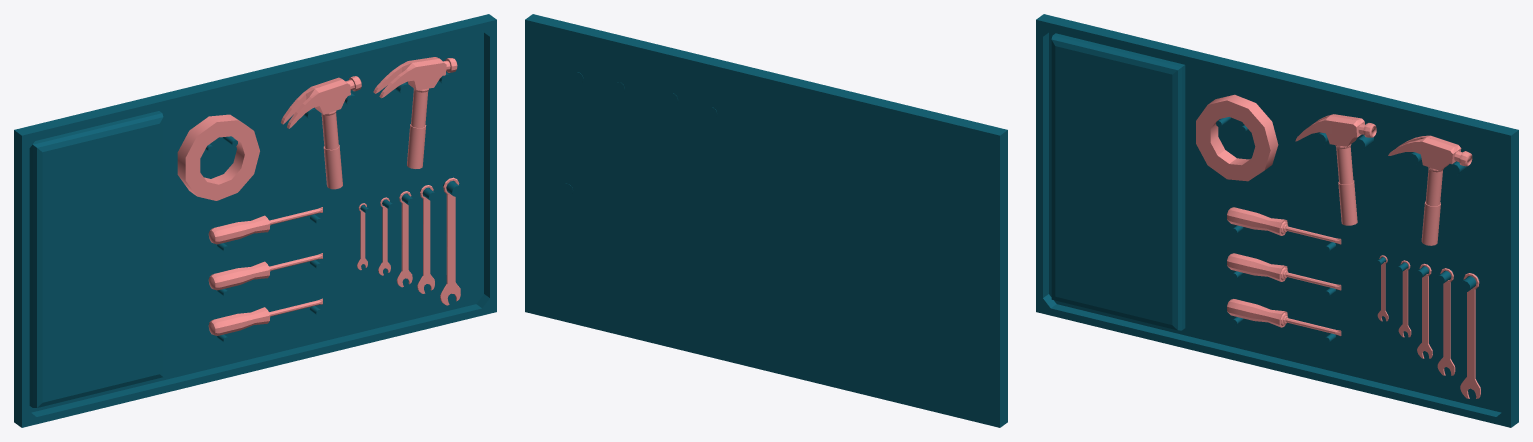
File: Tool_Pegboard.fbx
3 renders of one model, left to right at view 1: azimuth 30°, elevation 25°; view 2: azimuth 150°, elevation 25°; view 3: azimuth 330°, elevation 25°, orthographic.
Visible parts, largest first — view 1: Pegboard, Duct Tape, Hammer001, Hammer, Cylinder018, ScrewDriver002, ScrewDriver, ScrewDriver001, Wrench, Wrench001, Wrench002, Wrench003; view 2: Pegboard, Cylinder018; view 3: Pegboard, Duct Tape, Hammer, Hammer001, Cylinder018, ScrewDriver, ScrewDriver001, ScrewDriver002, Wrench, Wrench001, Wrench002, Wrench003.
Part boxes in pixels (left/top/right/bottom): Pegboard: left=14, top=14, right=496, bottom=427; Duct Tape: left=177, top=114, right=259, bottom=200; Hammer001: left=281, top=76, right=361, bottom=189; Hammer: left=373, top=57, right=457, bottom=168; Cylinder018: left=205, top=72, right=462, bottom=343; ScrewDriver002: left=208, top=298, right=322, bottom=335; ScrewDriver: left=208, top=207, right=322, bottom=244; ScrewDriver001: left=208, top=253, right=322, bottom=290; Wrench: left=440, top=177, right=460, bottom=305; Wrench001: left=417, top=185, right=434, bottom=293; Wrench002: left=396, top=191, right=412, bottom=287; Wrench003: left=378, top=197, right=390, bottom=275; Pegboard: left=525, top=14, right=1007, bottom=427; Cylinder018: left=562, top=72, right=717, bottom=194; Pegboard: left=1036, top=14, right=1518, bottom=427; Duct Tape: left=1196, top=94, right=1278, bottom=181; Hammer: left=1388, top=135, right=1472, bottom=245; Hammer001: left=1295, top=114, right=1376, bottom=225; Cylinder018: left=1216, top=117, right=1479, bottom=343; ScrewDriver: left=1227, top=207, right=1341, bottom=244; ScrewDriver001: left=1227, top=253, right=1341, bottom=290; ScrewDriver002: left=1227, top=299, right=1341, bottom=336; Wrench: left=1460, top=273, right=1480, bottom=398; Wrench001: left=1437, top=268, right=1455, bottom=375; Wrench002: left=1417, top=263, right=1432, bottom=358; Wrench003: left=1398, top=260, right=1411, bottom=337.
Size of the model in its own units: 1.74 by 0.0761 by 1.03.
